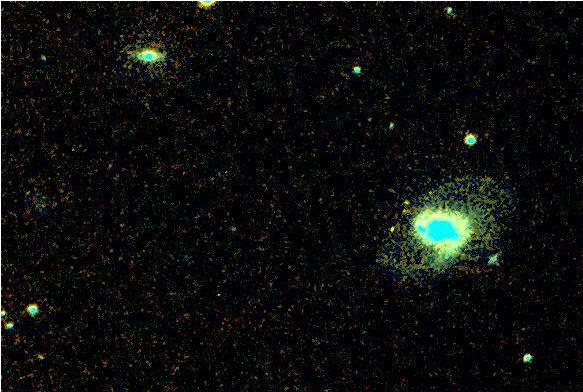star: (394, 187, 424, 217)
